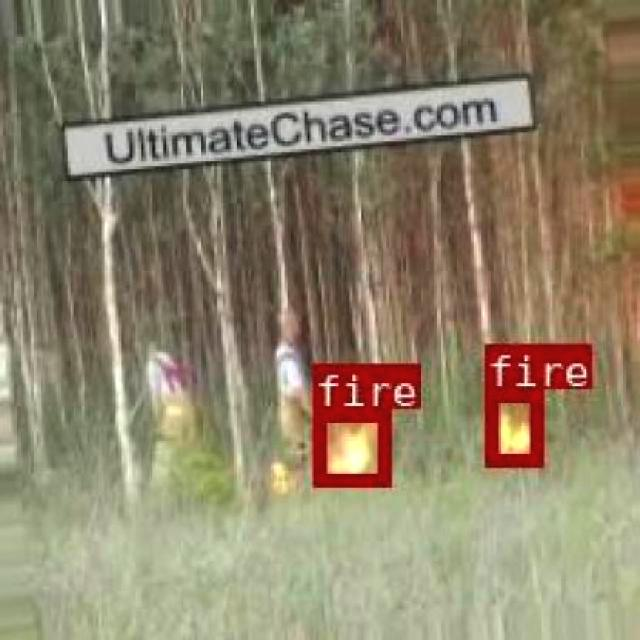fire: (312, 408, 390, 484), (482, 386, 540, 463)
